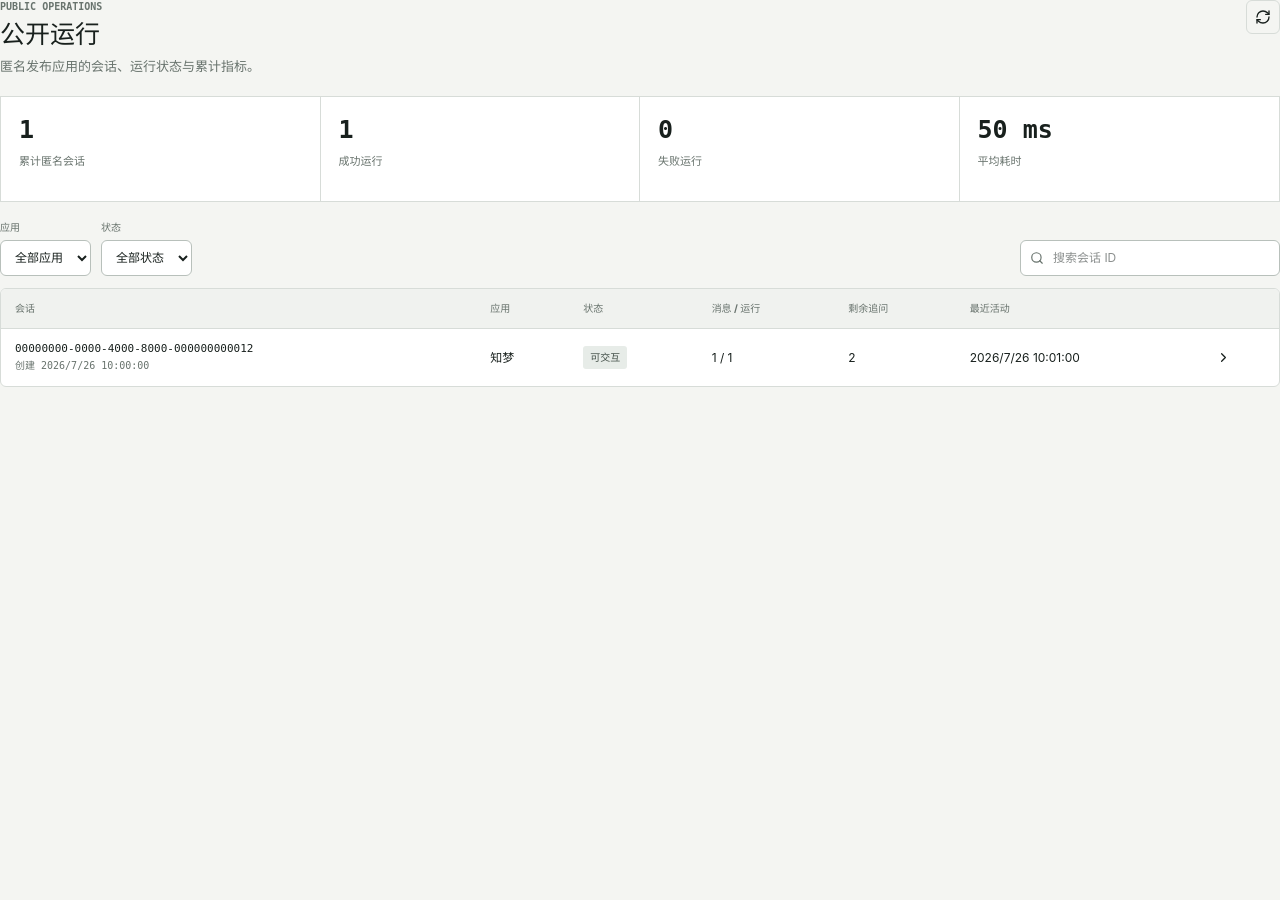
Test: PublicRunsView › shows a permanently redacted dream summary without a reveal action
Click the row that starts with "创建 2026/7/26 10:00:00": click(134, 349) [1,329,1279,386]
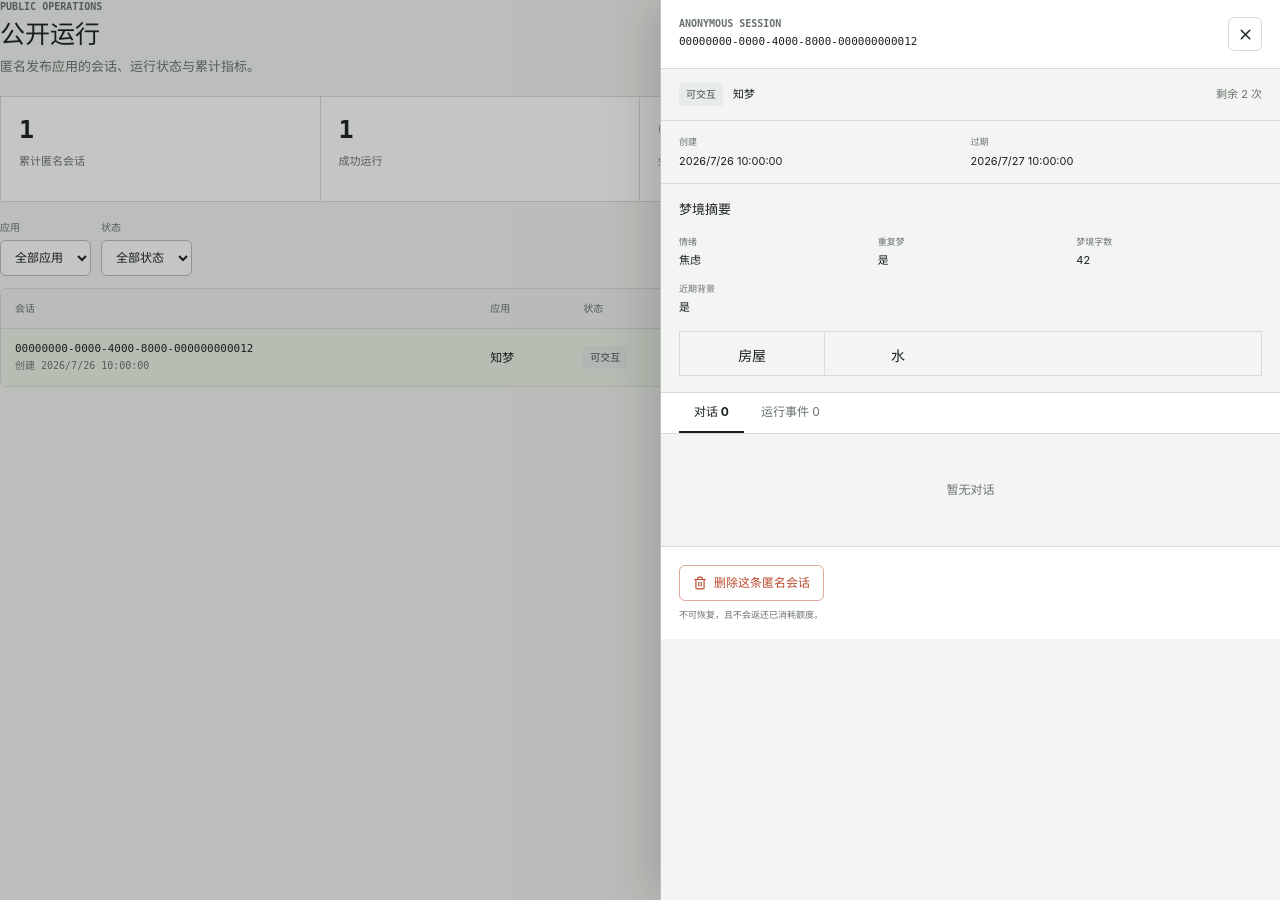
Expected: the text "梦境摘要" is shown, [679,200,731,220]
Expected: the text "焦虑" is shown, [679,253,701,267]
Expected: the text "房屋" is shown, [738,344,766,366]
